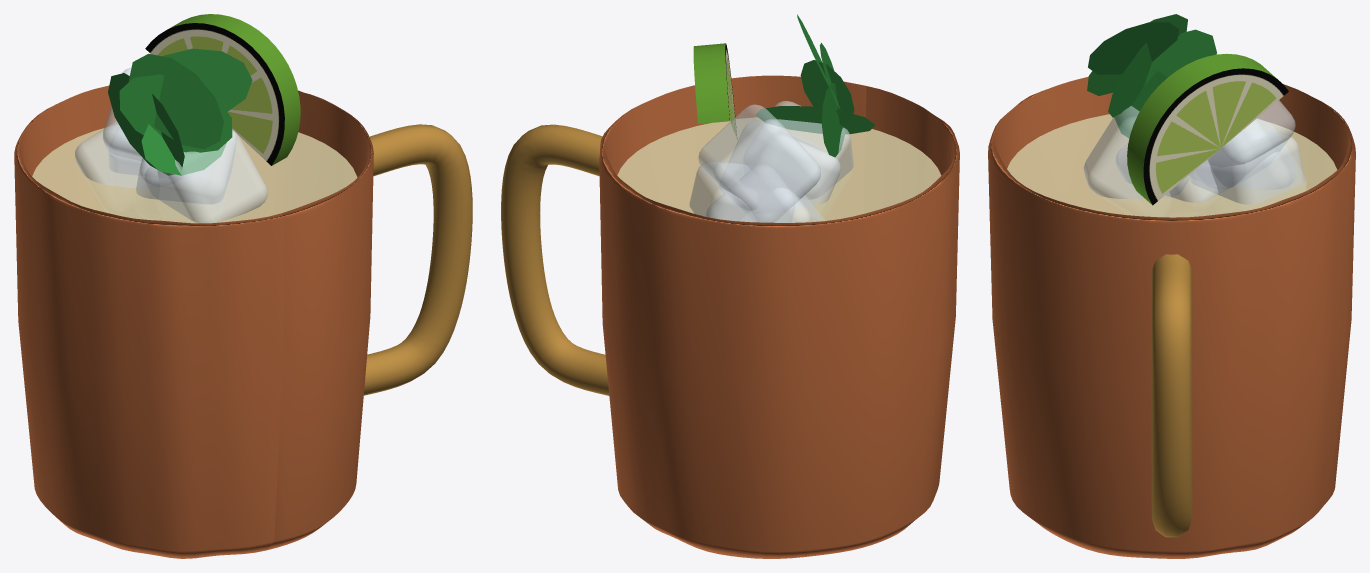
The model's file is moscow-mule.glb.
3 views of the same model, side by side, from view 1: azimuth 30°, elevation 25°; view 2: azimuth 150°, elevation 25°; view 3: azimuth 270°, elevation 25° (orthographic).
Size of the model in its own units: 0.1244 by 0.1278 by 0.0903.
8 materials, 2 textured.
